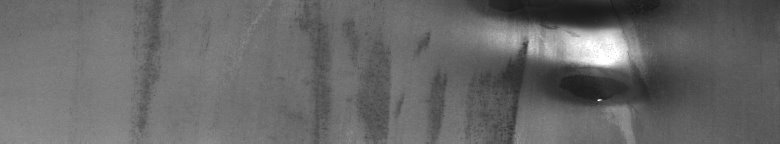ke: (377, 4, 651, 136)
